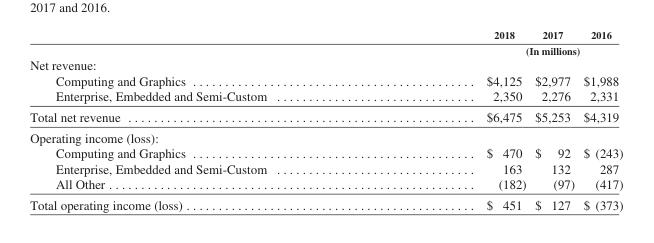table: (29, 28, 622, 211)
table column: (29, 28, 376, 211), (376, 28, 529, 211), (529, 28, 578, 211), (578, 28, 622, 211)
table column header: (29, 28, 622, 56)
table projected row header: (29, 127, 622, 145), (29, 56, 622, 72)
table row: (29, 106, 622, 127), (29, 88, 622, 106), (29, 127, 622, 145), (29, 176, 622, 194), (29, 194, 622, 211), (29, 56, 622, 72), (29, 72, 622, 88), (29, 160, 622, 176), (29, 145, 622, 160), (29, 28, 622, 42), (29, 42, 622, 56)
table spanning cell: (376, 42, 622, 56)
